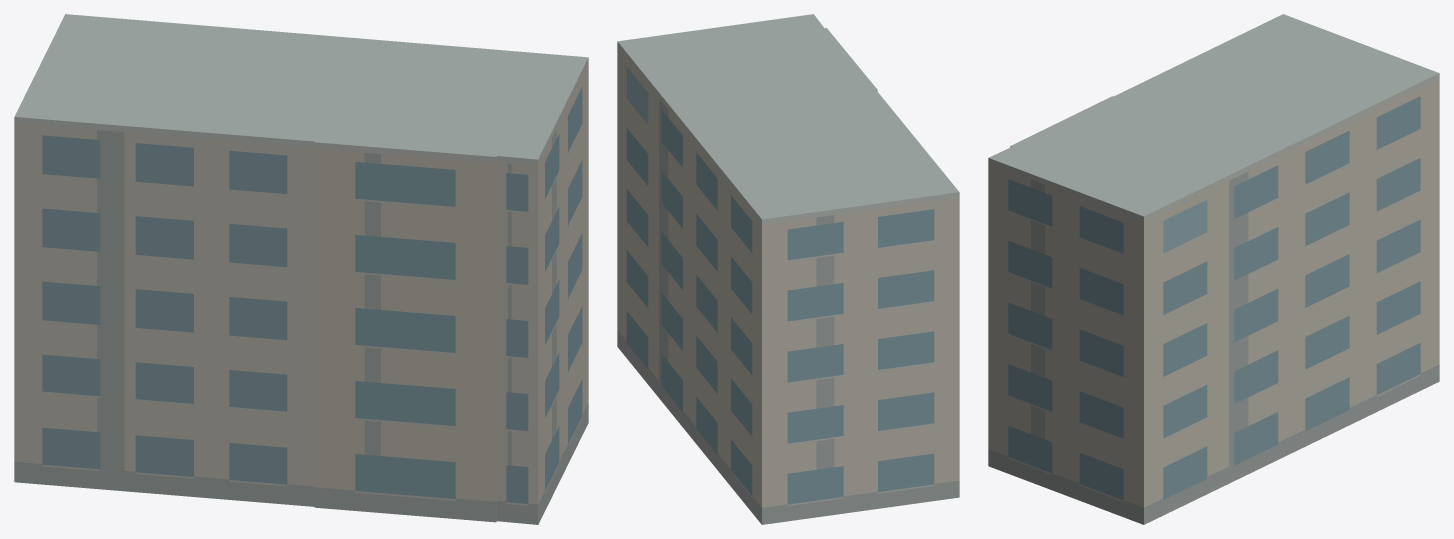
File: survey-upis-32529027.glb
3 renders of one model, left to right at view 1: azimuth 30°, elevation 25°; view 2: azimuth 150°, elevation 25°; view 3: azimuth 270°, elevation 25°, orthographic. The views are drawn at different scales.
Visible parts, largest first — view 1: survey-upis-32529027.tmp; view 2: survey-upis-32529027.tmp; view 3: survey-upis-32529027.tmp.
Boxes of the visible parts, box(x1,y1,x2,y2) form: survey-upis-32529027.tmp: box(14, 14, 588, 524); survey-upis-32529027.tmp: box(617, 14, 959, 524); survey-upis-32529027.tmp: box(988, 14, 1439, 524).
Bounding box in the file's own units: 19.31 × 13.7 × 18.18.
